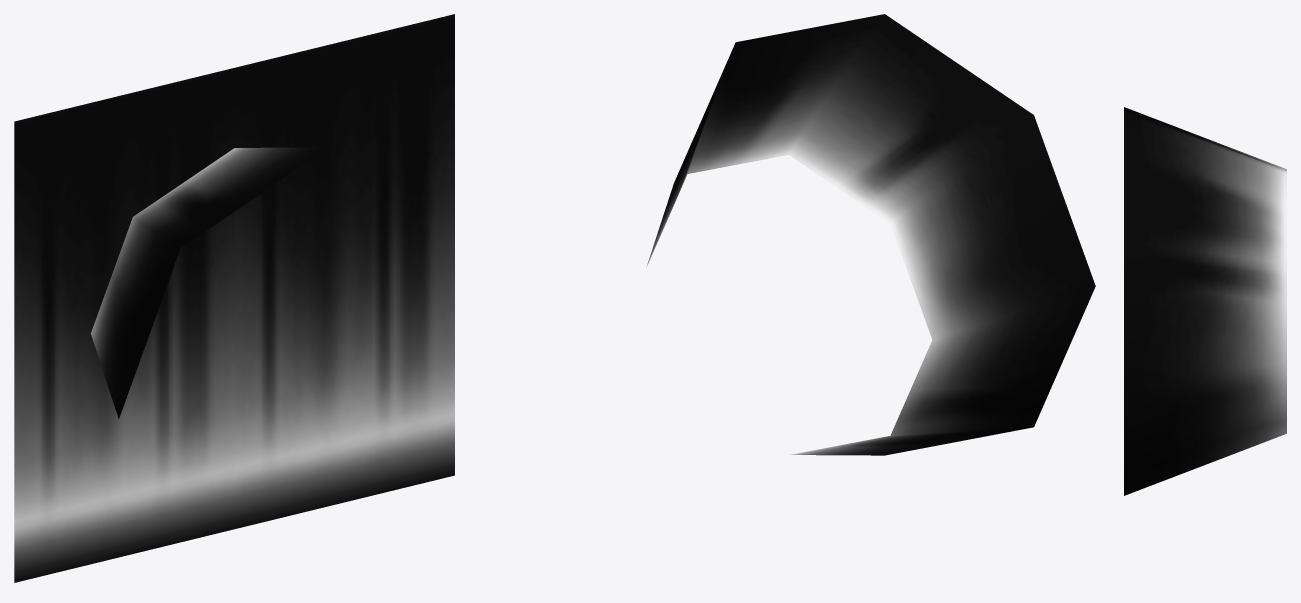
Rendered from model_floatingobject.glb.
The picture shows the model from 3 angles, left to right: view 1: azimuth 30°, elevation 25°; view 2: azimuth 150°, elevation 25°; view 3: azimuth 270°, elevation 25°; orthographic projection. The views are drawn at different scales.
Visible parts, largest first — view 1: class_pad.model_floatingobject-MeshNodes["classpad_glowPlane, class_pad.model_floatingobject-MeshNodes["classpad_glowCylin; view 2: class_pad.model_floatingobject-MeshNodes["classpad_glowCylin; view 3: class_pad.model_floatingobject-MeshNodes["classpad_glowCylin.
Part boxes in pixels (x1=…): class_pad.model_floatingobject-MeshNodes["classpad_glowPlane: x1=14, y1=14, x2=454, y2=582; class_pad.model_floatingobject-MeshNodes["classpad_glowCylin: x1=91, y1=147, x2=329, y2=419; class_pad.model_floatingobject-MeshNodes["classpad_glowCylin: x1=646, y1=14, x2=1095, y2=455; class_pad.model_floatingobject-MeshNodes["classpad_glowCylin: x1=1124, y1=107, x2=1286, y2=495.
Size of the model in its own units: 0.7971 by 0.7971 by 0.3.
1 material, 1 textured.
